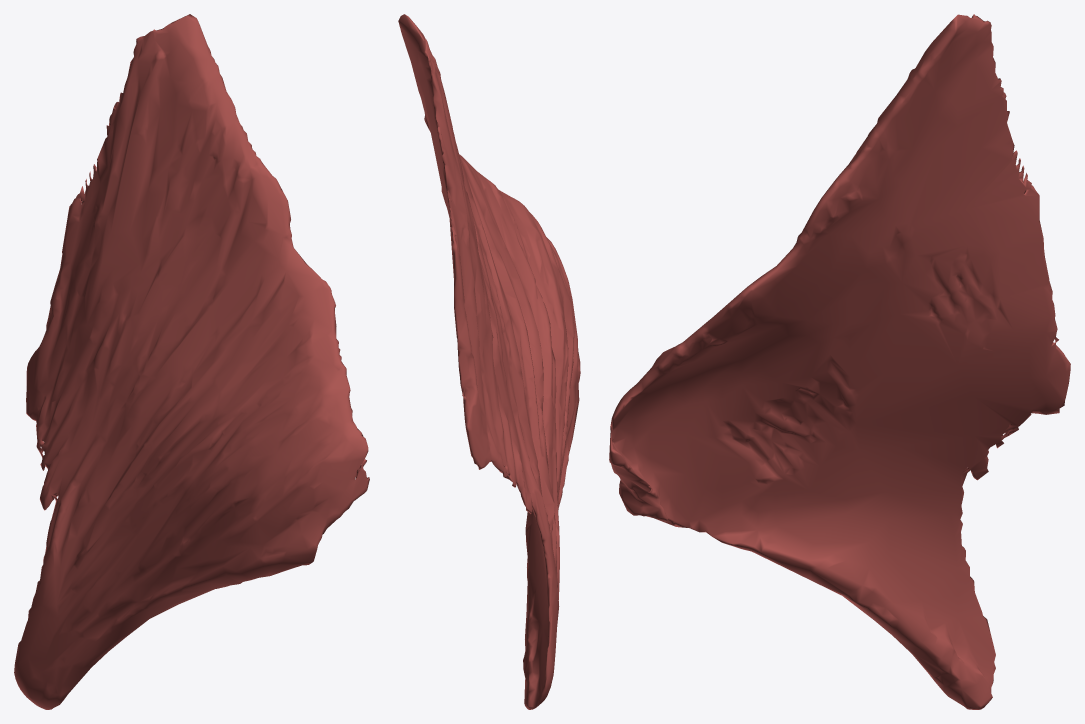
File: FMA55606.glb
3 views of the same model, side by side, from view 1: azimuth 30°, elevation 25°; view 2: azimuth 150°, elevation 25°; view 3: azimuth 270°, elevation 25° (orthographic). The views are drawn at different scales.
Parts seen in each view (by area): view 1: FMA55606; view 2: FMA55606; view 3: FMA55606.
Part boxes in pixels (left/top/right/bottom): FMA55606: left=14, top=14, right=369, bottom=709; FMA55606: left=398, top=14, right=580, bottom=709; FMA55606: left=609, top=14, right=1070, bottom=709.
Size of the model in its own units: 0.0129 by 0.0391 by 0.0212.
